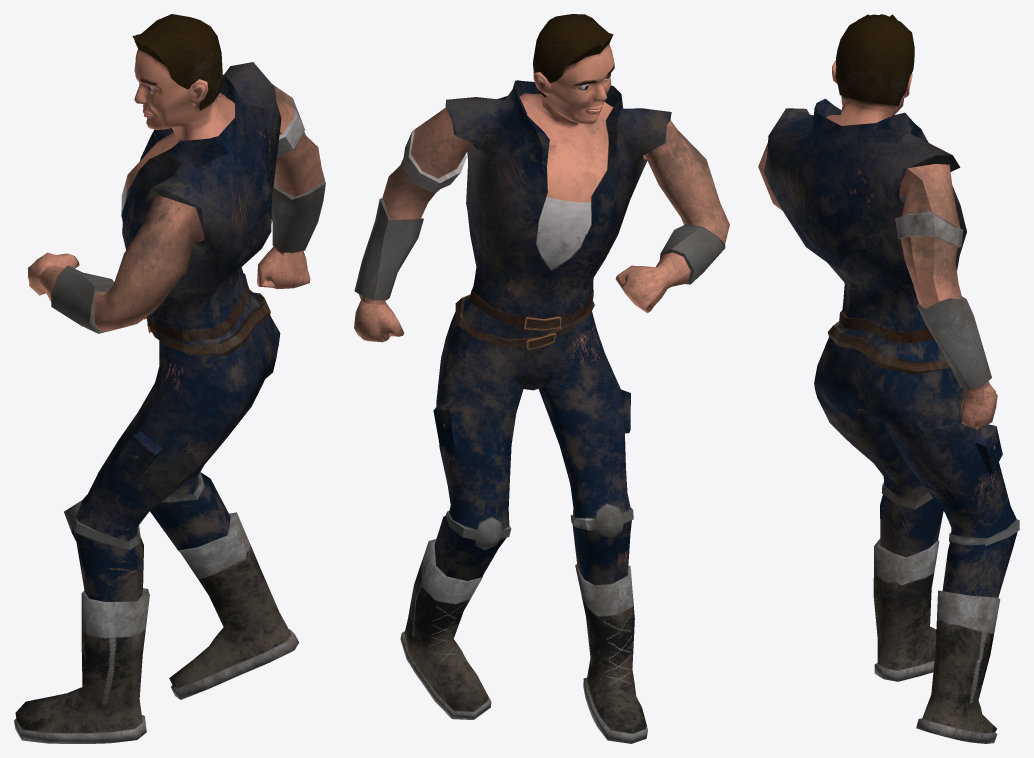
File: Anim_ataque_f3_jugador.0040.obj
3 views of the same model, side by side, from view 1: azimuth 30°, elevation 25°; view 2: azimuth 150°, elevation 25°; view 3: azimuth 270°, elevation 25° (orthographic). The views are drawn at different scales.
Parts seen in each view (by area): view 1: polySurface1; view 2: polySurface1; view 3: polySurface1.
Part boxes in pixels (x1,y1,x2,y2): polySurface1: (14,14,325,743); polySurface1: (354,14,729,743); polySurface1: (758,14,1019,743).
Size of the model in its own units: 4.22 by 9.47 by 3.23.
